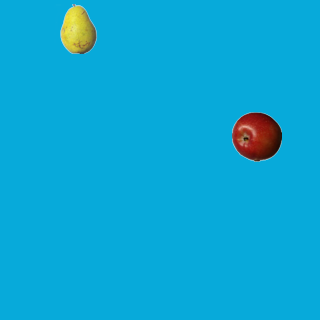Apple Braeburn: (231, 111, 281, 161)
Pear Monster: (53, 3, 103, 53)
